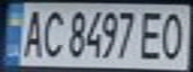4: (84, 7, 103, 58)
7: (115, 7, 139, 60)
8: (63, 7, 87, 58)
9: (100, 7, 121, 58)
A: (18, 6, 48, 58)
C: (39, 7, 66, 58)
E: (136, 8, 166, 61)
O: (157, 8, 190, 61)
